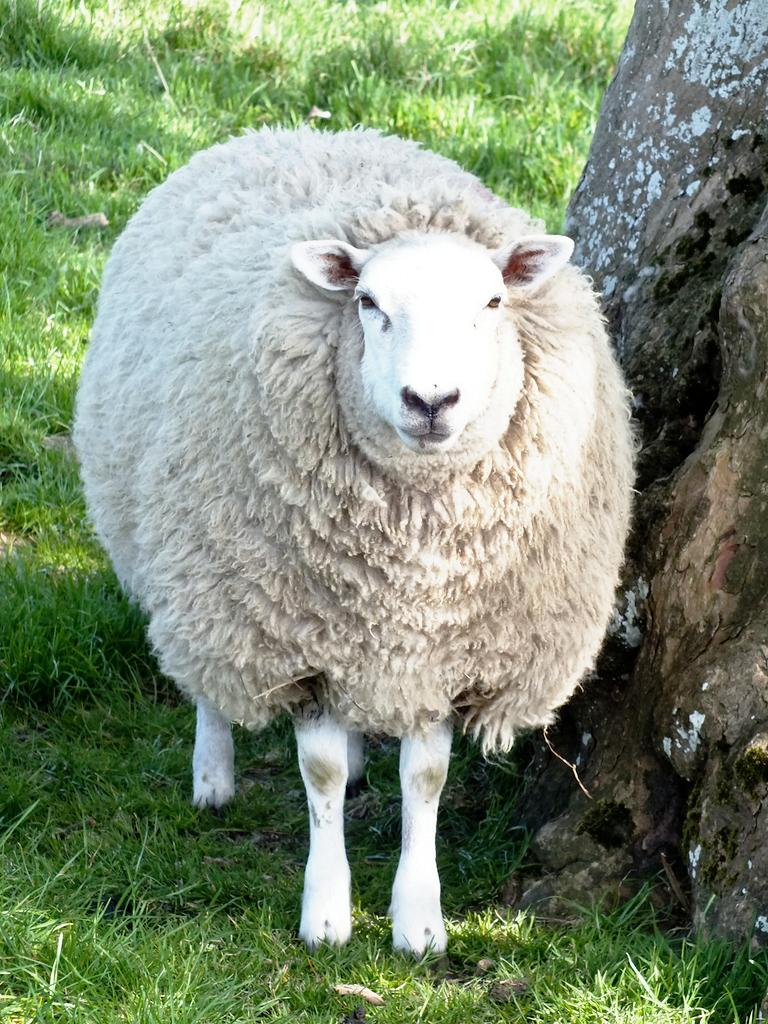Sheep: (74, 121, 643, 959)
